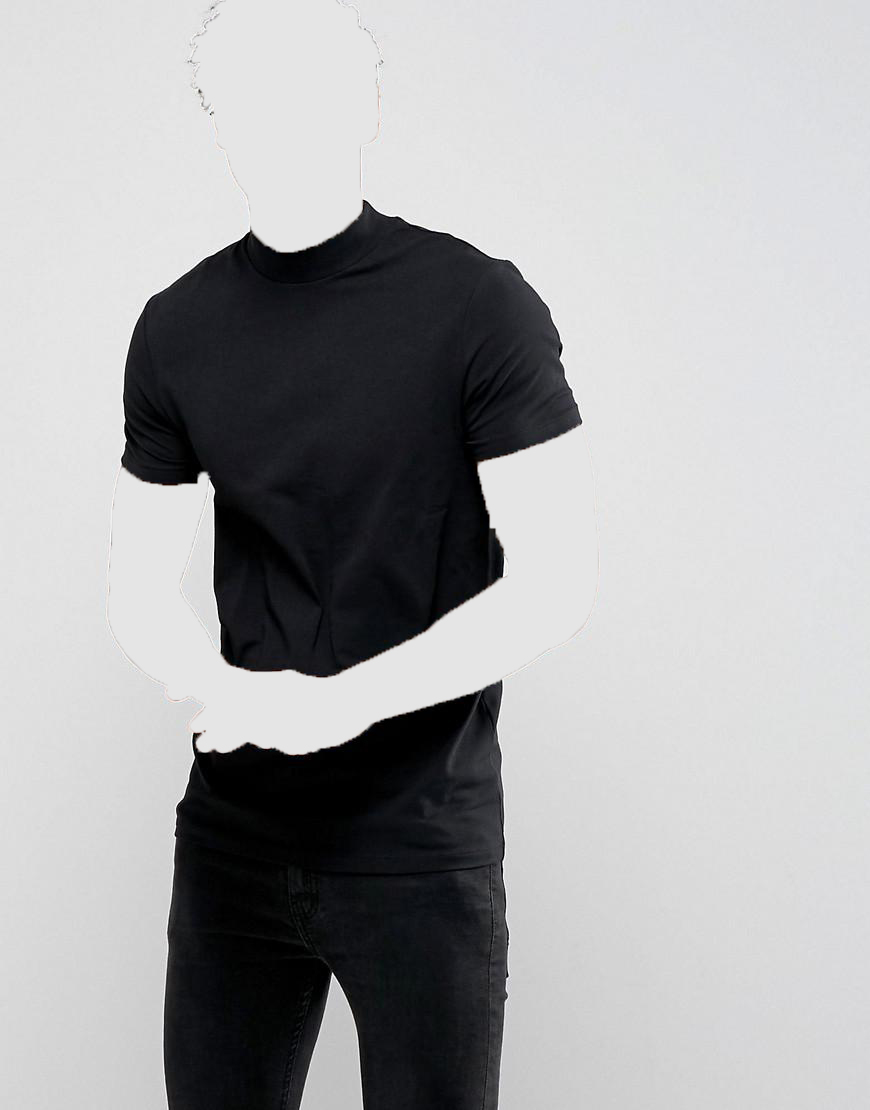teeshirt: (108, 198, 590, 873)
